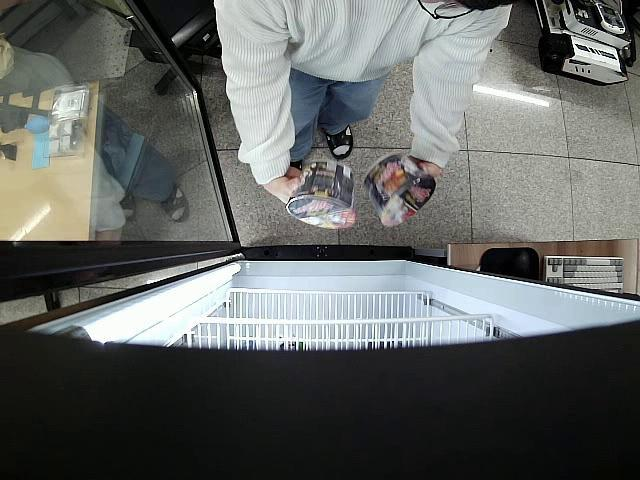07_buldak_L: (364, 151, 437, 228), (284, 161, 358, 230)
